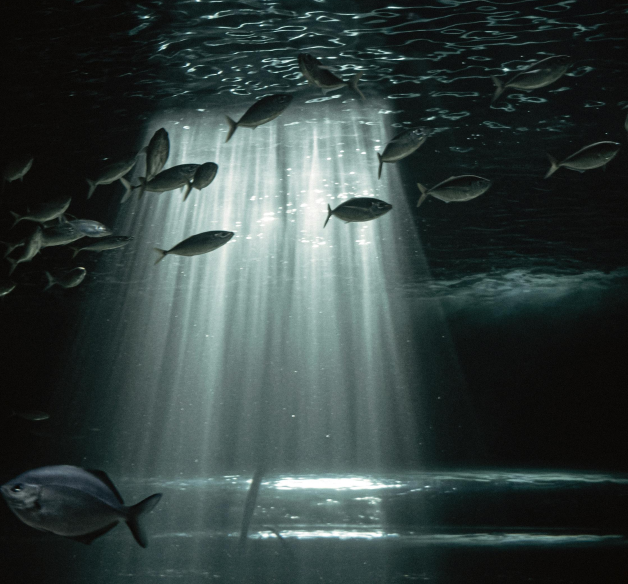fishRound: (3, 463, 163, 551)
fishSmall: (490, 54, 573, 102), (223, 90, 295, 142), (296, 51, 367, 100), (540, 140, 625, 179), (374, 122, 429, 180), (150, 229, 235, 265), (415, 174, 493, 206), (83, 153, 136, 198), (140, 126, 170, 198), (324, 196, 394, 226), (4, 228, 82, 253), (8, 226, 49, 273), (10, 197, 71, 226), (180, 162, 217, 202), (62, 214, 116, 238), (67, 236, 131, 255), (41, 266, 86, 288)
